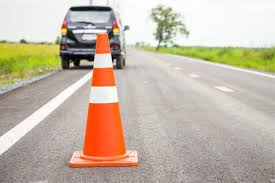car: (58, 6, 129, 69)
cone: (69, 33, 138, 169)
